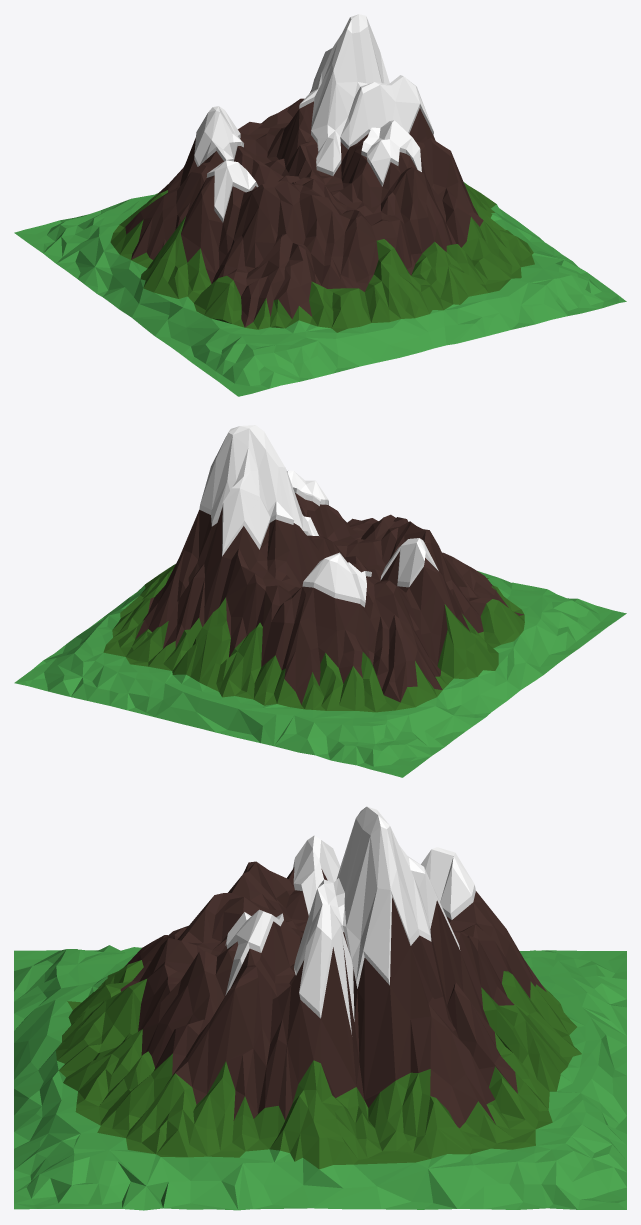
File: mountains.fbx
3 views of the same model, one above another, from view 1: azimuth 30°, elevation 25°; view 2: azimuth 150°, elevation 25°; view 3: azimuth 270°, elevation 25° (orthographic). The views are drawn at different scales.
Visible parts, largest first — view 1: Mountain; view 2: Mountain; view 3: Mountain.
Part boxes in pixels (x1,y1,x2,y2): Mountain: (14,14,626,396); Mountain: (14,425,626,777); Mountain: (14,806,626,1210).
Size of the model in its own units: 400 by 221 by 400.
